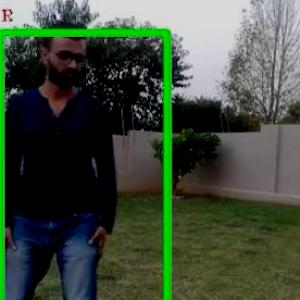follow: (8, 2, 116, 299)
